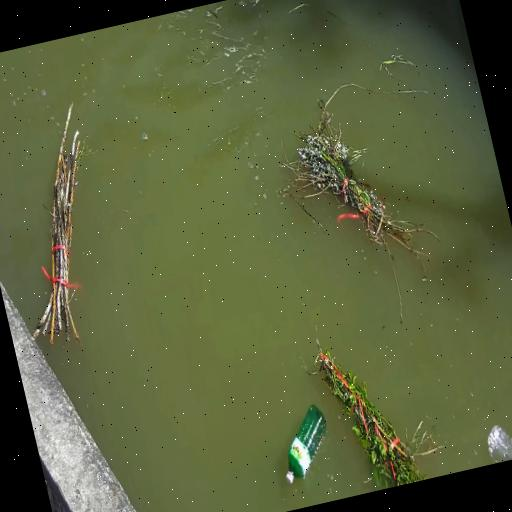plastic: (268, 396, 345, 491), (477, 407, 512, 465)
twig: (276, 90, 432, 292), (0, 107, 128, 349), (314, 314, 442, 497)
